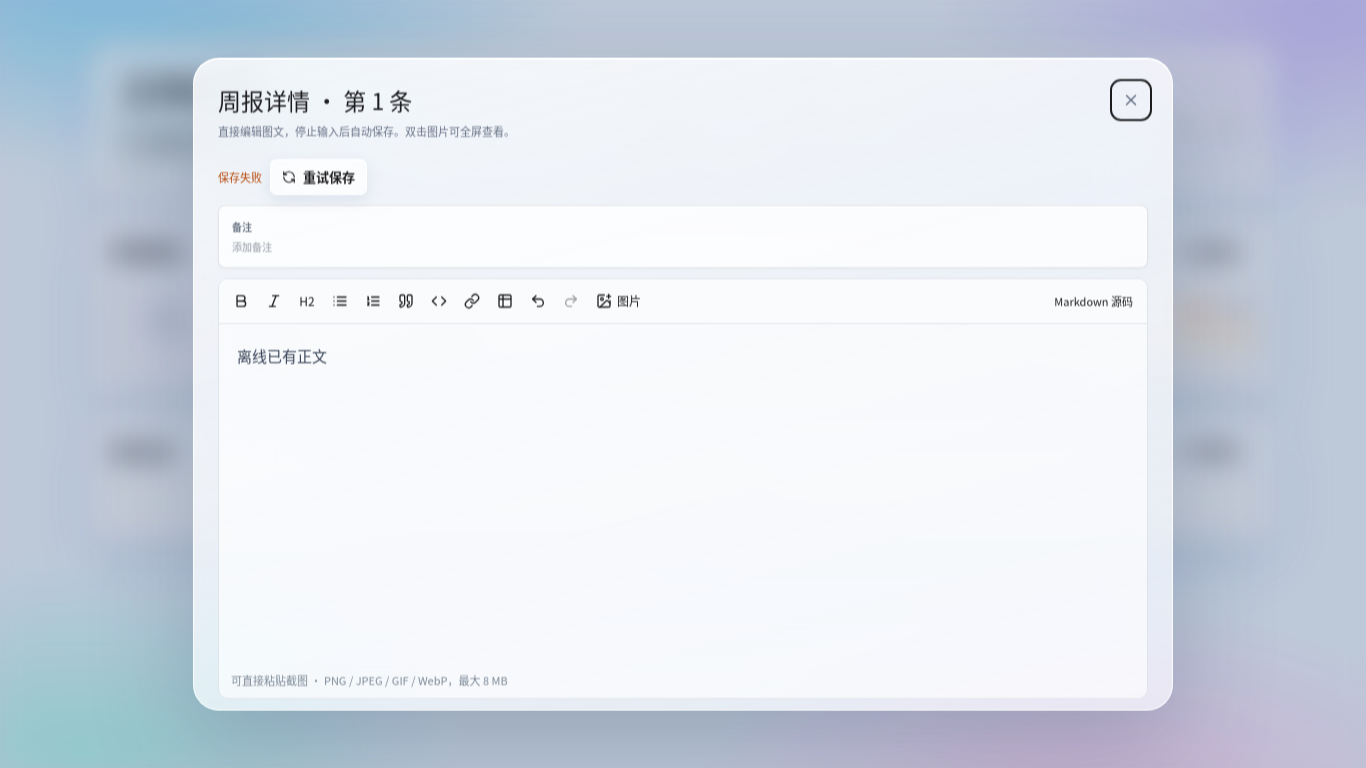
it: detail editor autosave integration › retains a local draft offline and retries the latest body
What coordinates should you click on to do the following:
click the button "重试保存"
I would click on:
 (318, 177)
Its box is [270, 159, 367, 194].
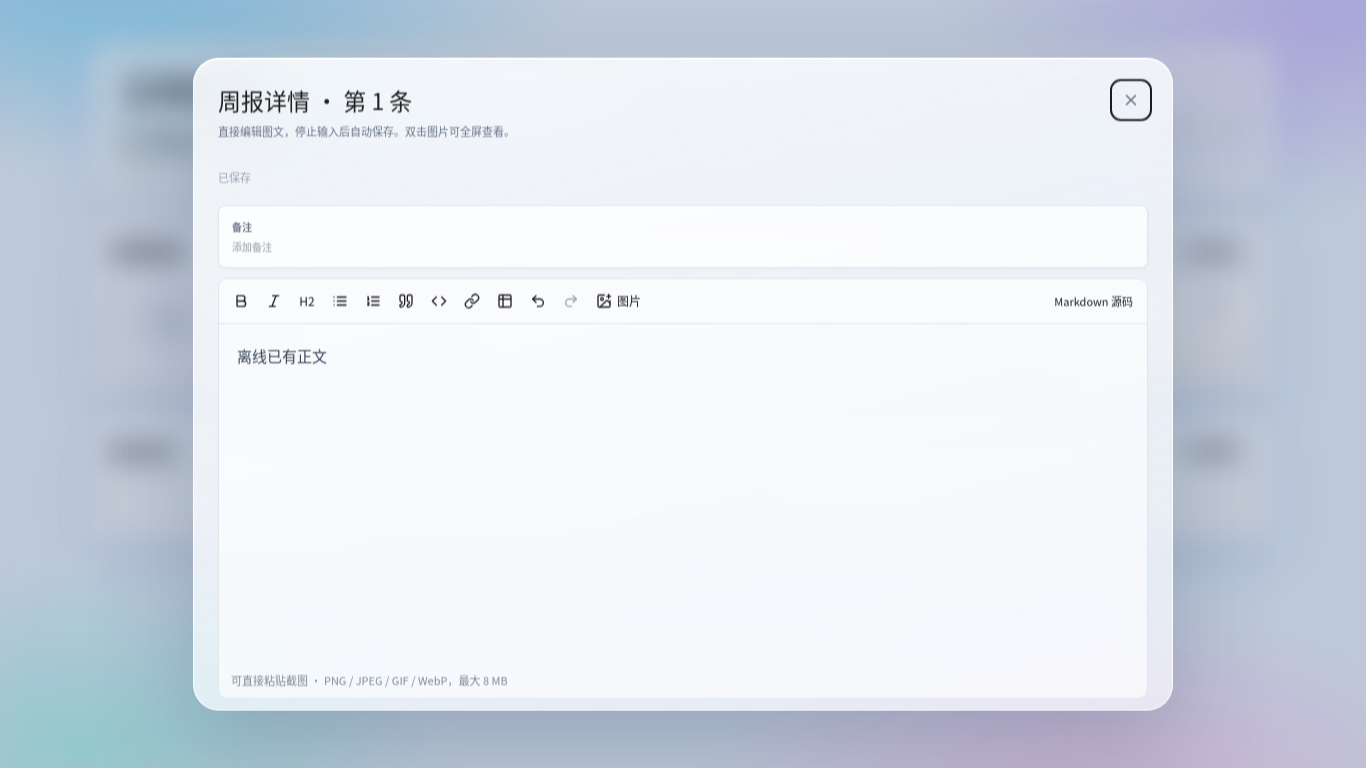
Check: the text "已保存" is shown, box [218, 168, 251, 185]
